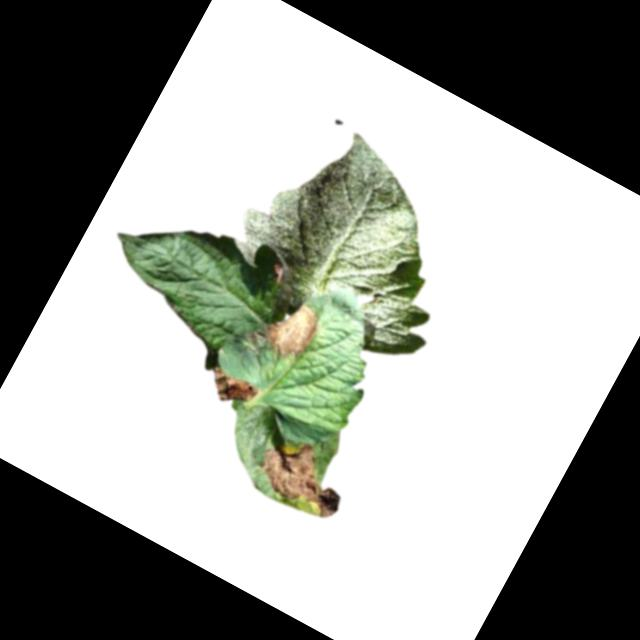Late_blight: (244, 423, 360, 530), (248, 285, 327, 365), (199, 361, 260, 414)
healthy: (212, 99, 500, 374)
